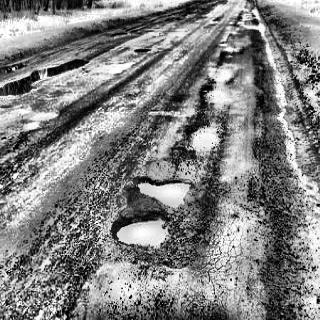alligator-crack: (220, 152, 311, 318), (246, 56, 288, 149), (171, 210, 218, 277), (249, 29, 266, 53)
pothole: (110, 212, 170, 253), (132, 175, 199, 207), (180, 116, 225, 151), (201, 86, 234, 108), (134, 46, 151, 55)
